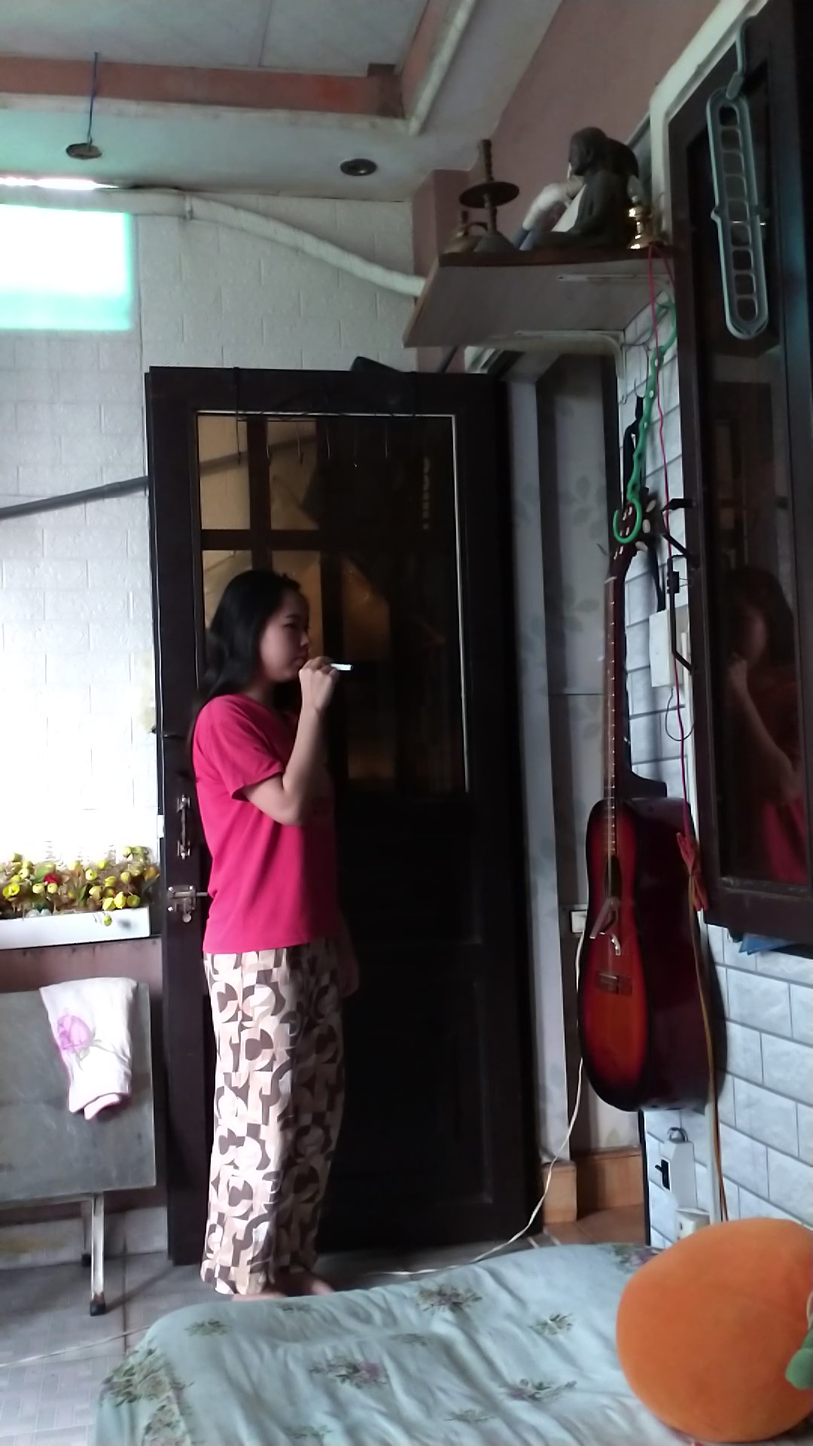cigarette: (327, 660, 357, 675)
person: (191, 560, 363, 1307)
